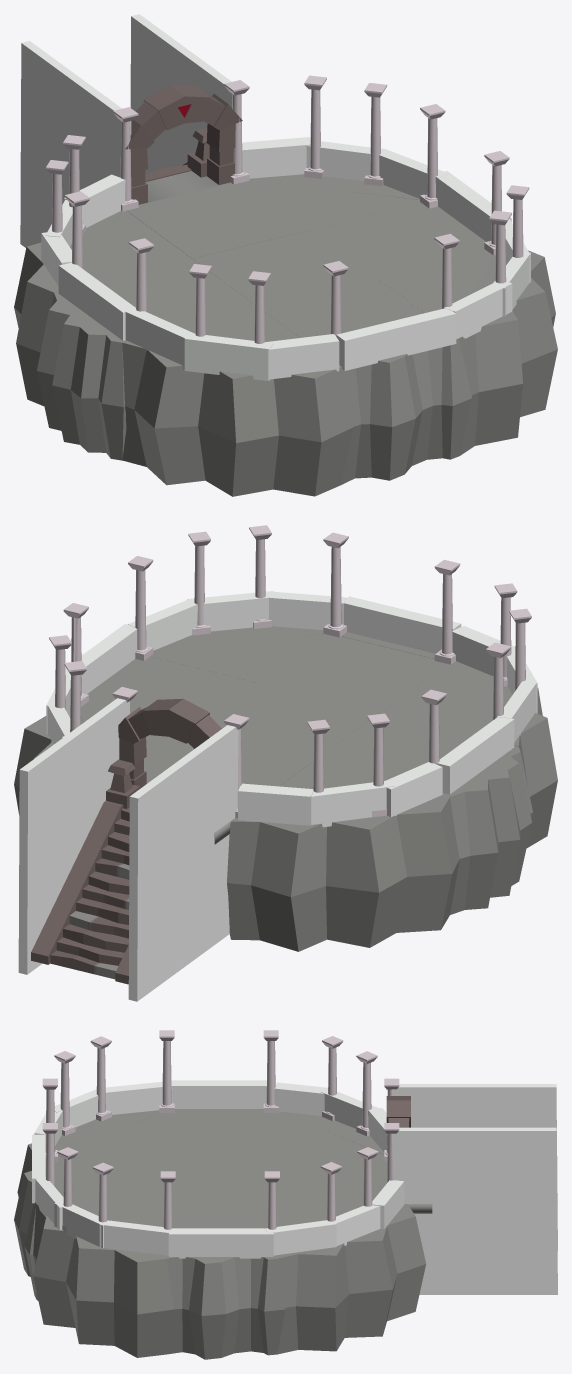
Rendered from BossRoomAlpha.fbx.
3 renders of one model, top to bottom at view 1: azimuth 30°, elevation 25°; view 2: azimuth 150°, elevation 25°; view 3: azimuth 270°, elevation 25°, orthographic. The views are drawn at different scales.
Parts seen in each view (by area): view 1: CentralHub; view 2: CentralHub; view 3: CentralHub.
Boxes of the visible parts, x1,y1,x2,y2 form: CentralHub: (14, 14, 557, 496); CentralHub: (14, 525, 557, 1001); CentralHub: (14, 1030, 557, 1359).
Bounding box in the file's own units: 2923 × 1330 × 3725.
